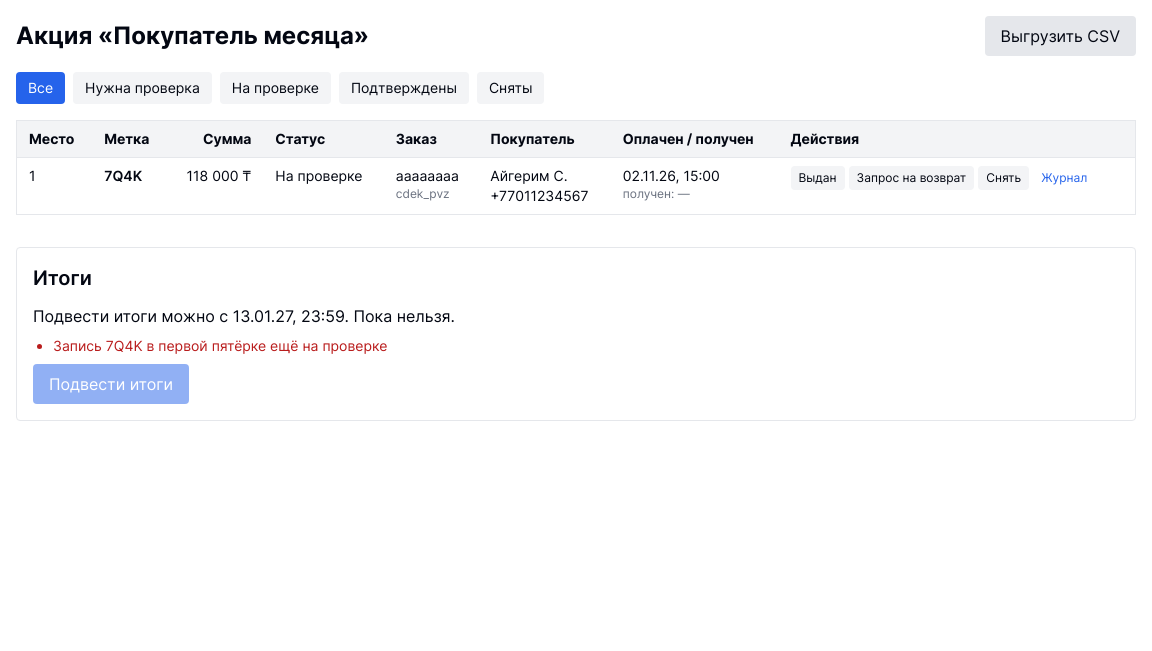
Test case: Раздел «Акция» › снятие уходит с причиной и комментарием, ошибка бэкенда видна текстом
Click the button "Снять".
click(1004, 178)  # box [978,166,1029,190]
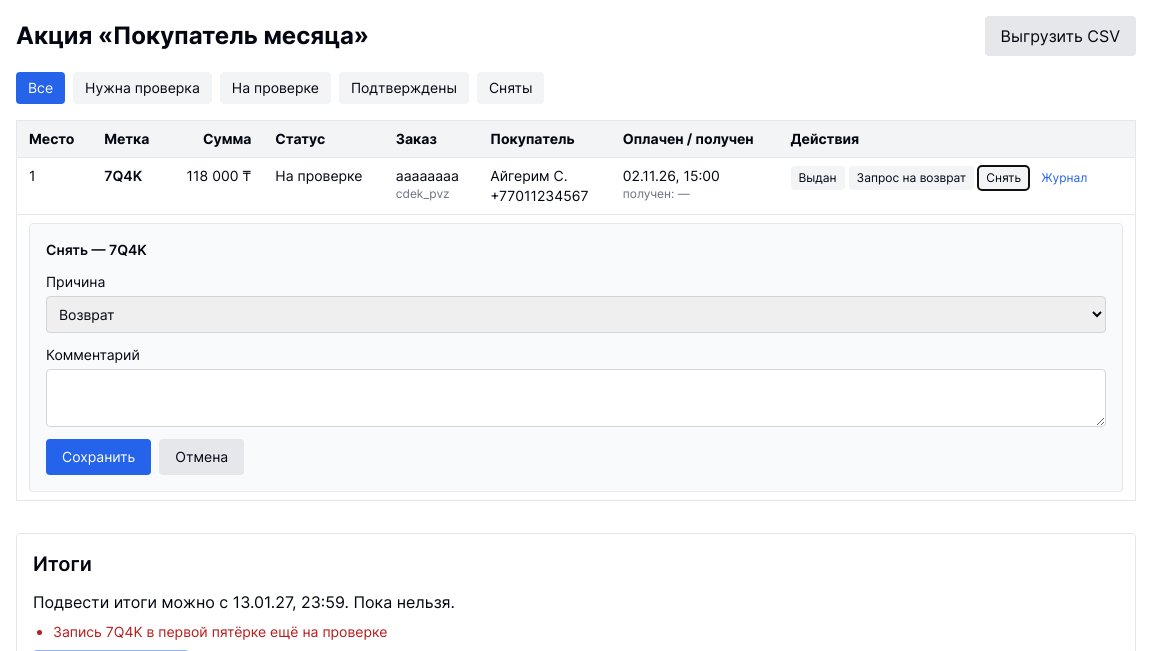
Select "Мошенничество" in the dropdown labelled "Причина" at point(576, 314), box [46,296,1106,333]
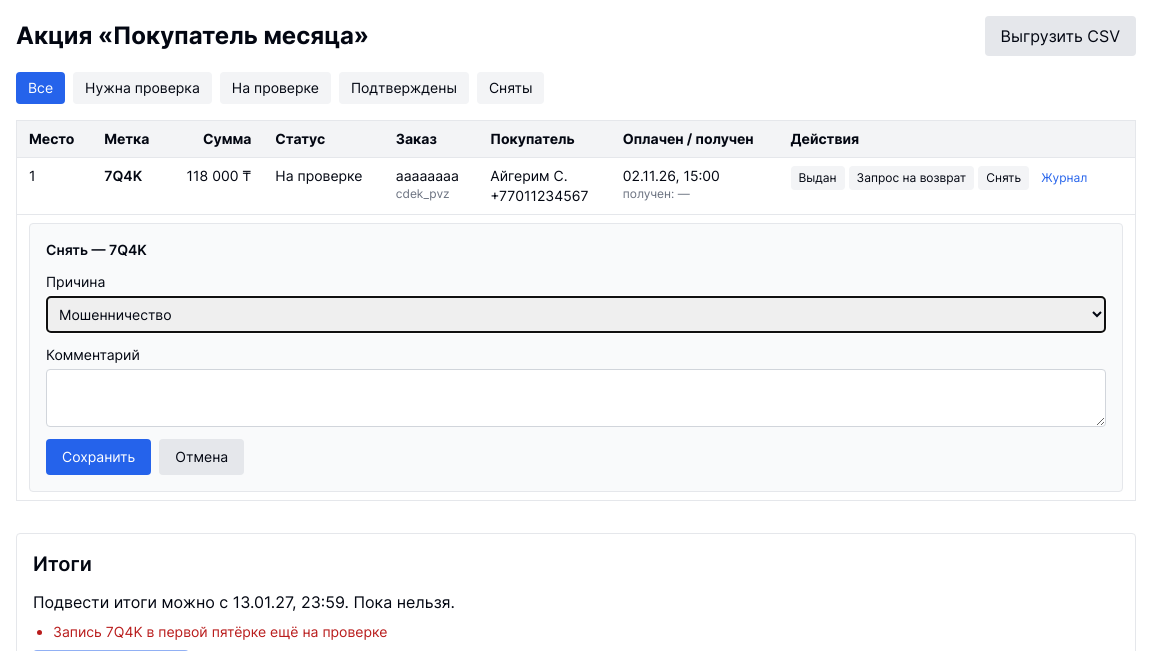
Type "два номера" into the text box labelled "Комментарий".
click(576, 398); type("два номера")  # box [46,369,1106,427]
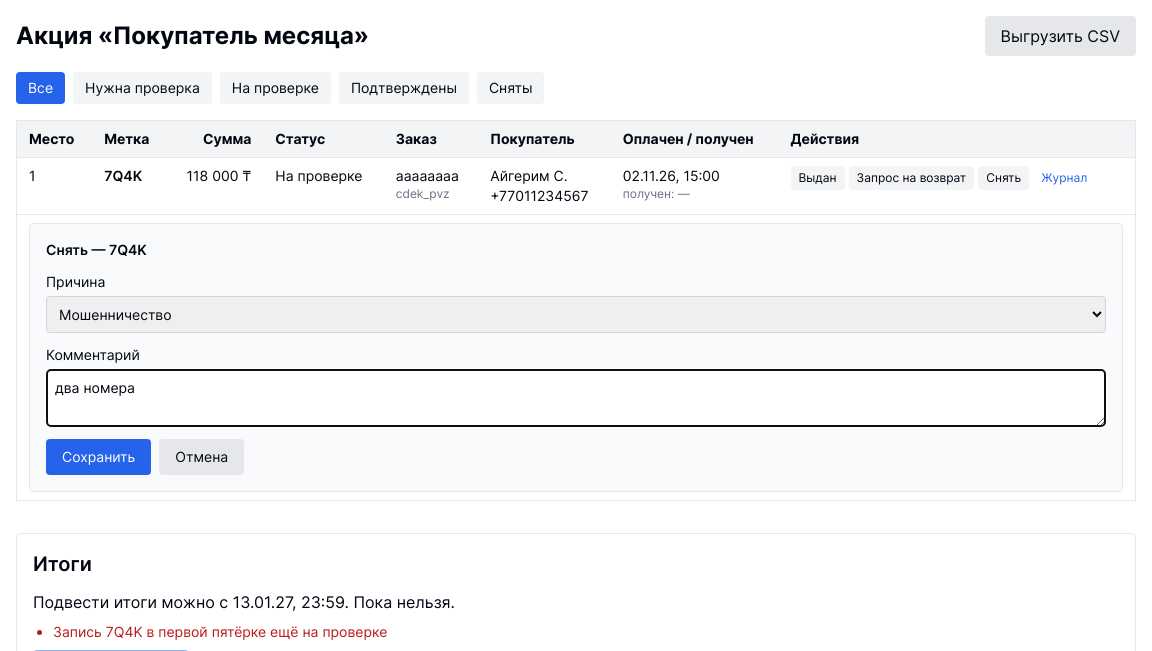
Click the button "Сохранить".
click(99, 457)  # box [46,439,151,475]
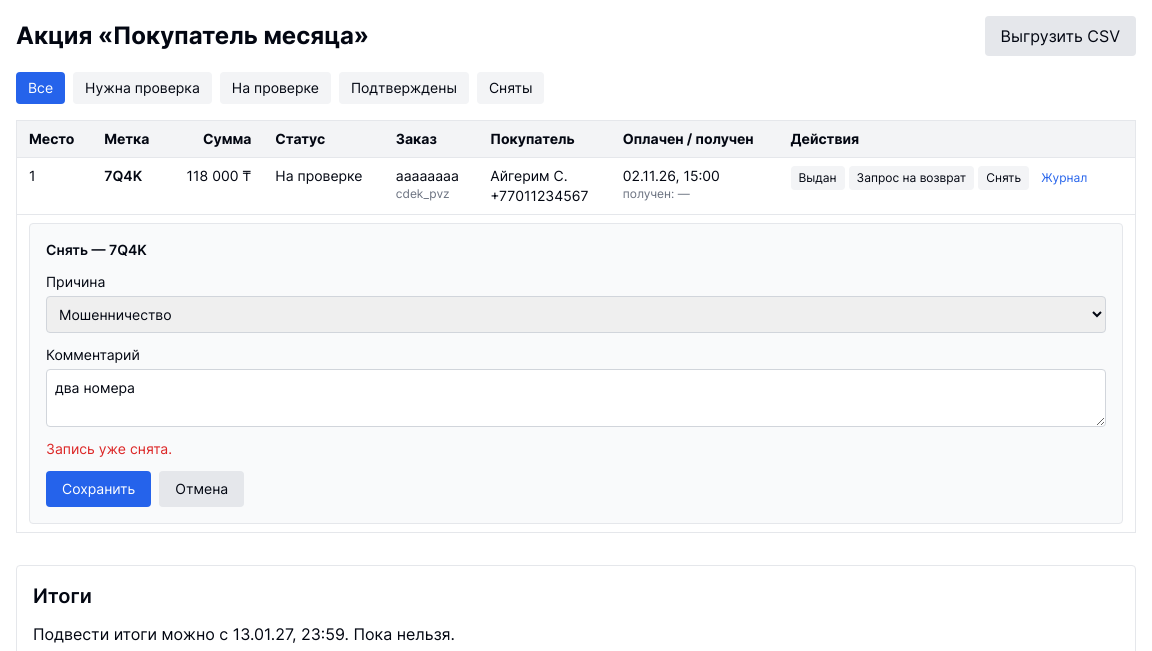
Now the message reads "Запись уже снята.", box [46,440,172,457]
